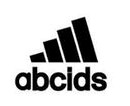adidas Fake: (13, 14, 112, 94)
